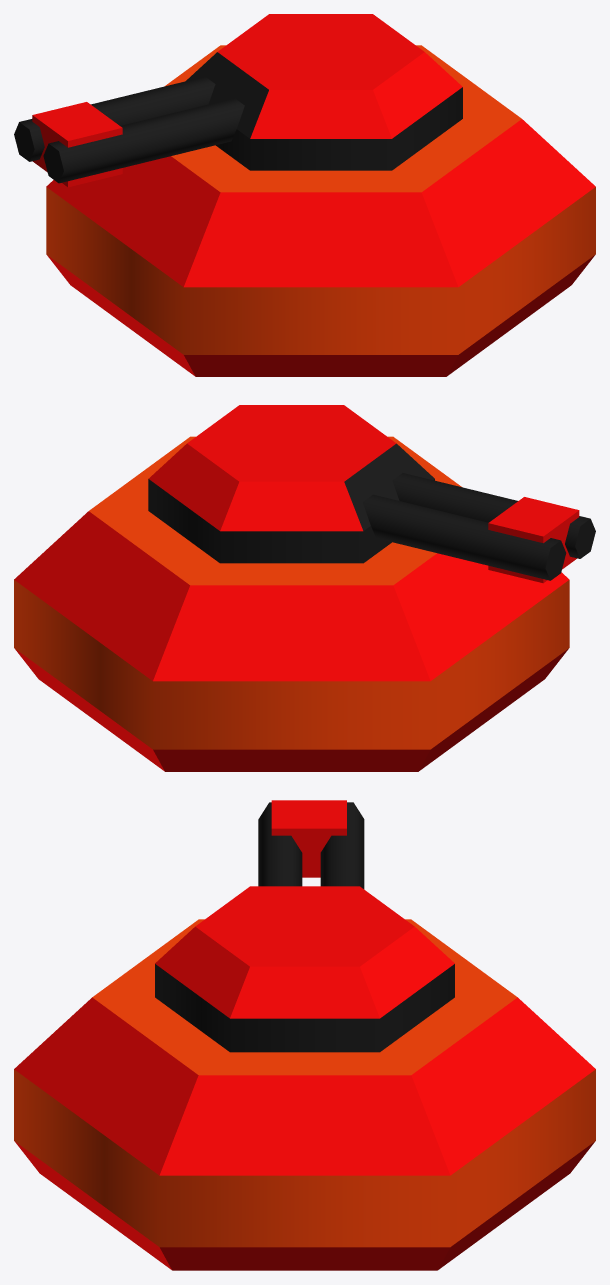
Rendered from Turret.fbx.
3 renders of one model, top to bottom at view 1: azimuth 30°, elevation 25°; view 2: azimuth 150°, elevation 25°; view 3: azimuth 270°, elevation 25°, orthographic. The views are drawn at different scales.
Parts seen in each view (by area): view 1: Turrret; view 2: Turrret; view 3: Turrret.
Boxes of the visible parts, <box> form: Turrret: <box>14,14,595,376</box>; Turrret: <box>14,405,595,771</box>; Turrret: <box>14,800,595,1270</box>.
Size of the model in its own units: 104 by 47.87 by 102.
